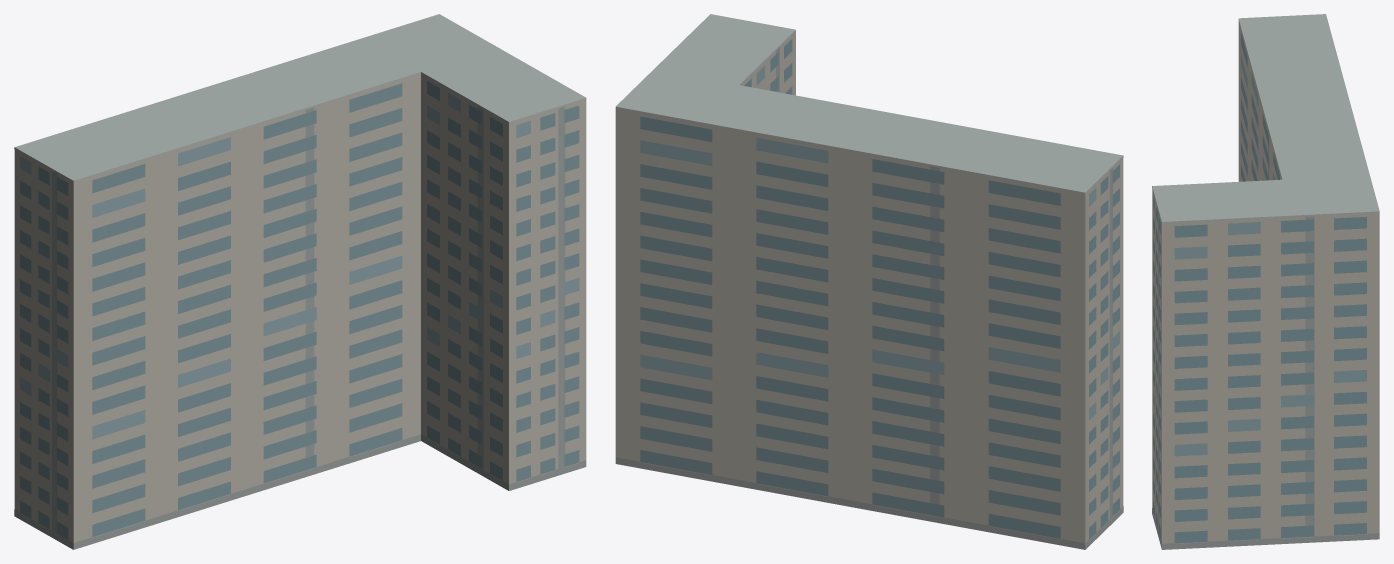
File: residential-736c5f99-068d-4c94-98ff-eb96f20deb1f.glb
3 views of the same model, side by side, from view 1: azimuth 30°, elevation 25°; view 2: azimuth 150°, elevation 25°; view 3: azimuth 270°, elevation 25° (orthographic). The views are drawn at different scales.
Visible parts, largest first — view 1: residential-736c5f99-068d-4c94-98ff-eb96f20deb1f.tmp; view 2: residential-736c5f99-068d-4c94-98ff-eb96f20deb1f.tmp; view 3: residential-736c5f99-068d-4c94-98ff-eb96f20deb1f.tmp.
Boxes of the visible parts, x1,y1,x2,y2 form: residential-736c5f99-068d-4c94-98ff-eb96f20deb1f.tmp: (14,14,586,549); residential-736c5f99-068d-4c94-98ff-eb96f20deb1f.tmp: (615,14,1123,549); residential-736c5f99-068d-4c94-98ff-eb96f20deb1f.tmp: (1152,14,1379,549).
Bounding box in the file's own units: 62.22 × 45.75 × 28.79.
